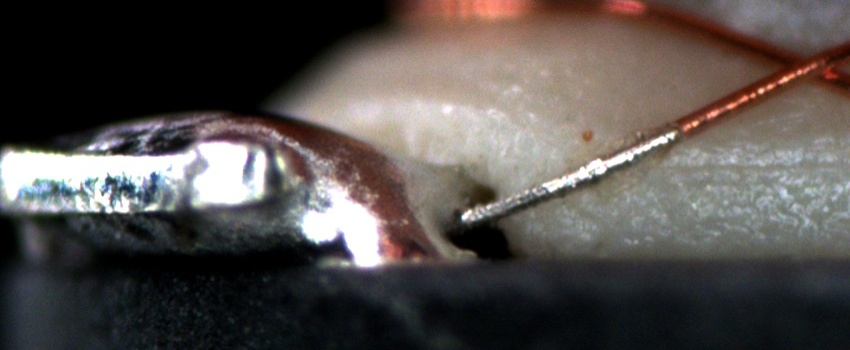CL: (756, 36, 844, 92)
DL: (657, 135, 850, 197)
TS: (459, 125, 678, 227)
